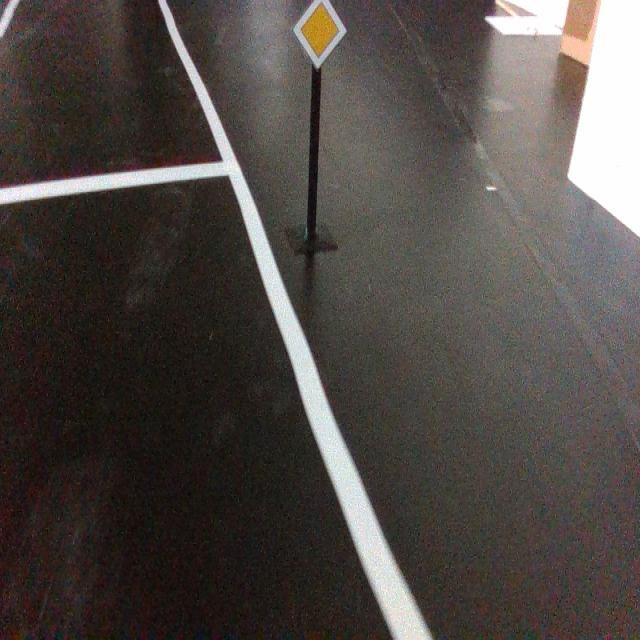priority-sign: (292, 0, 347, 71)
